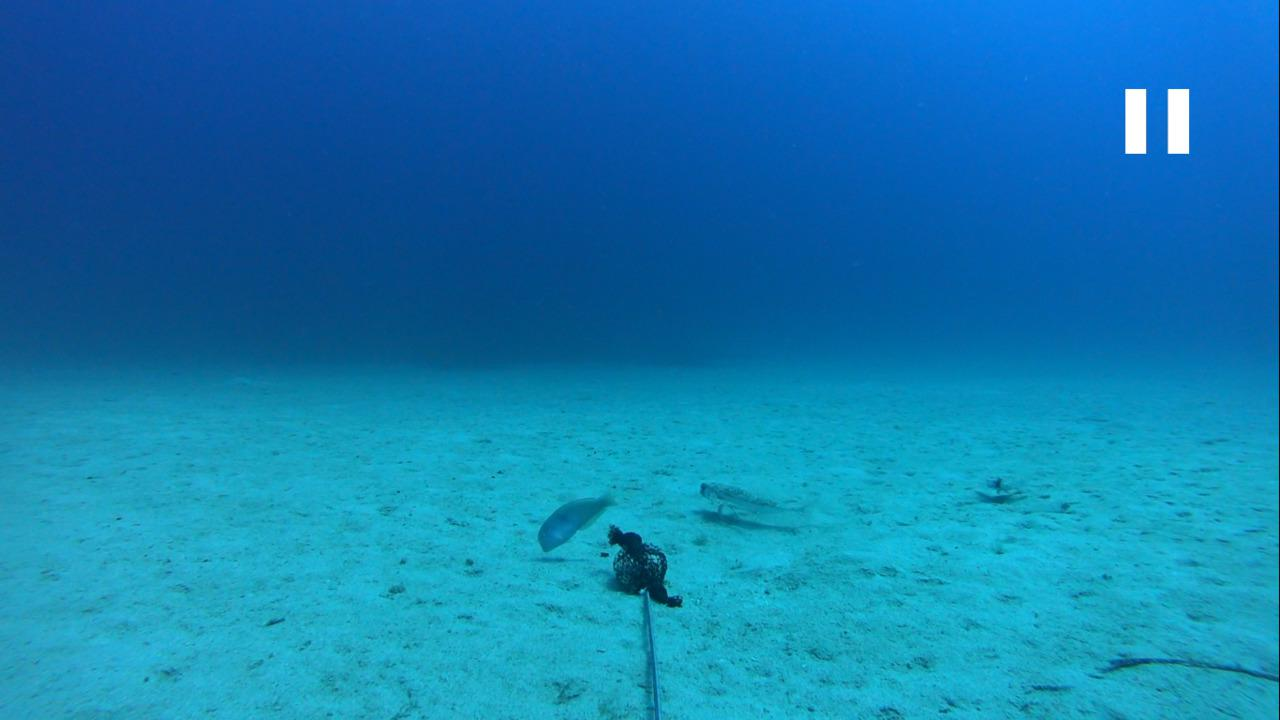dactylopterus: (684, 470, 823, 528), (977, 465, 1047, 514)
raor: (531, 489, 606, 551)
